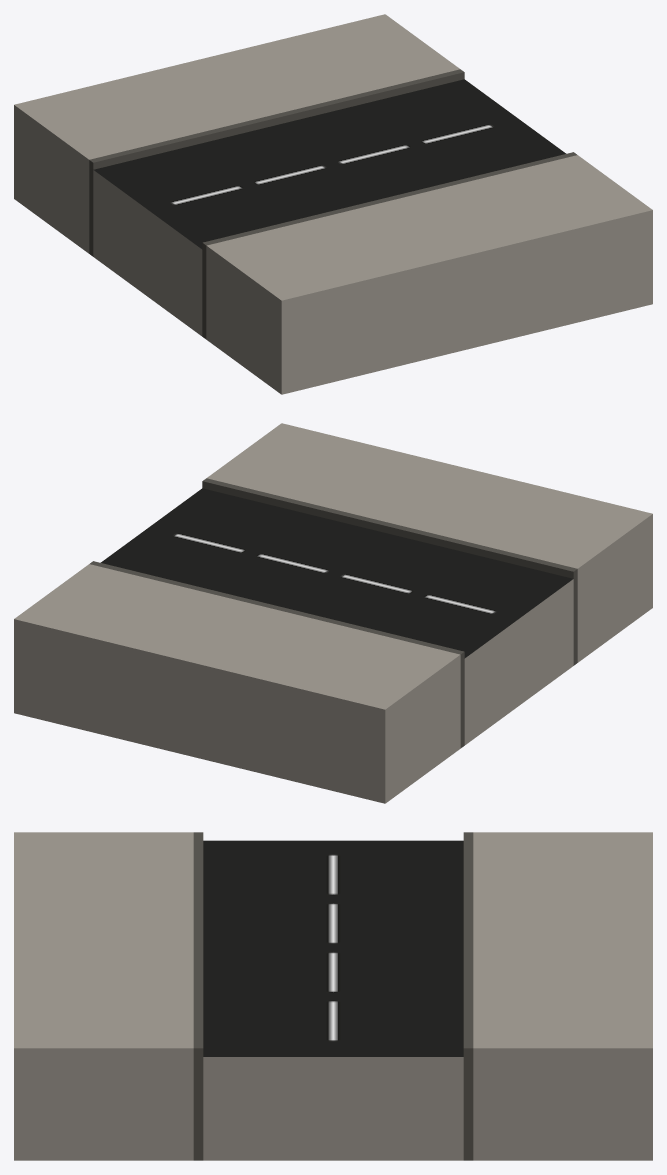
File: Road_Road01.fbx
3 views of the same model, one above another, from view 1: azimuth 30°, elevation 25°; view 2: azimuth 150°, elevation 25°; view 3: azimuth 270°, elevation 25° (orthographic). The views are drawn at different scales.
Visible parts, largest first — view 1: Road_Road01; view 2: Road_Road01; view 3: Road_Road01.
Boxes of the visible parts, x1,y1,x2,y2 form: Road_Road01: (14,14,652,394); Road_Road01: (14,423,652,803); Road_Road01: (14,832,652,1160).
Bounding box in the file's own units: 1359 × 329 × 1696.
